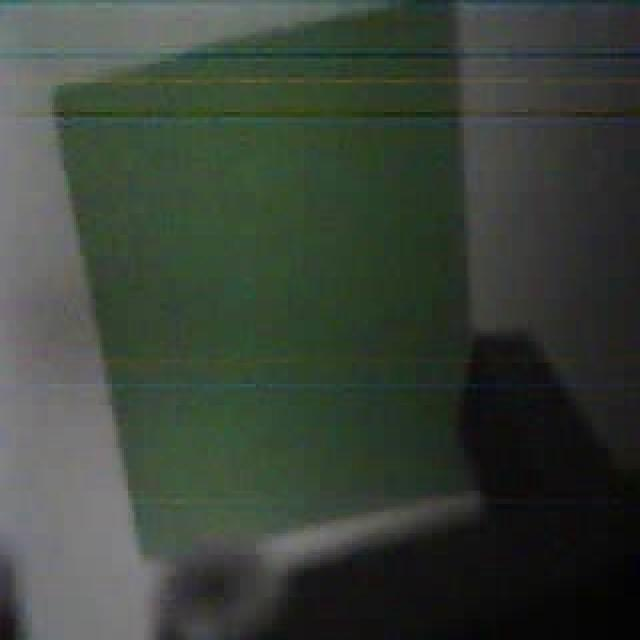green_box: (55, 8, 509, 526)
